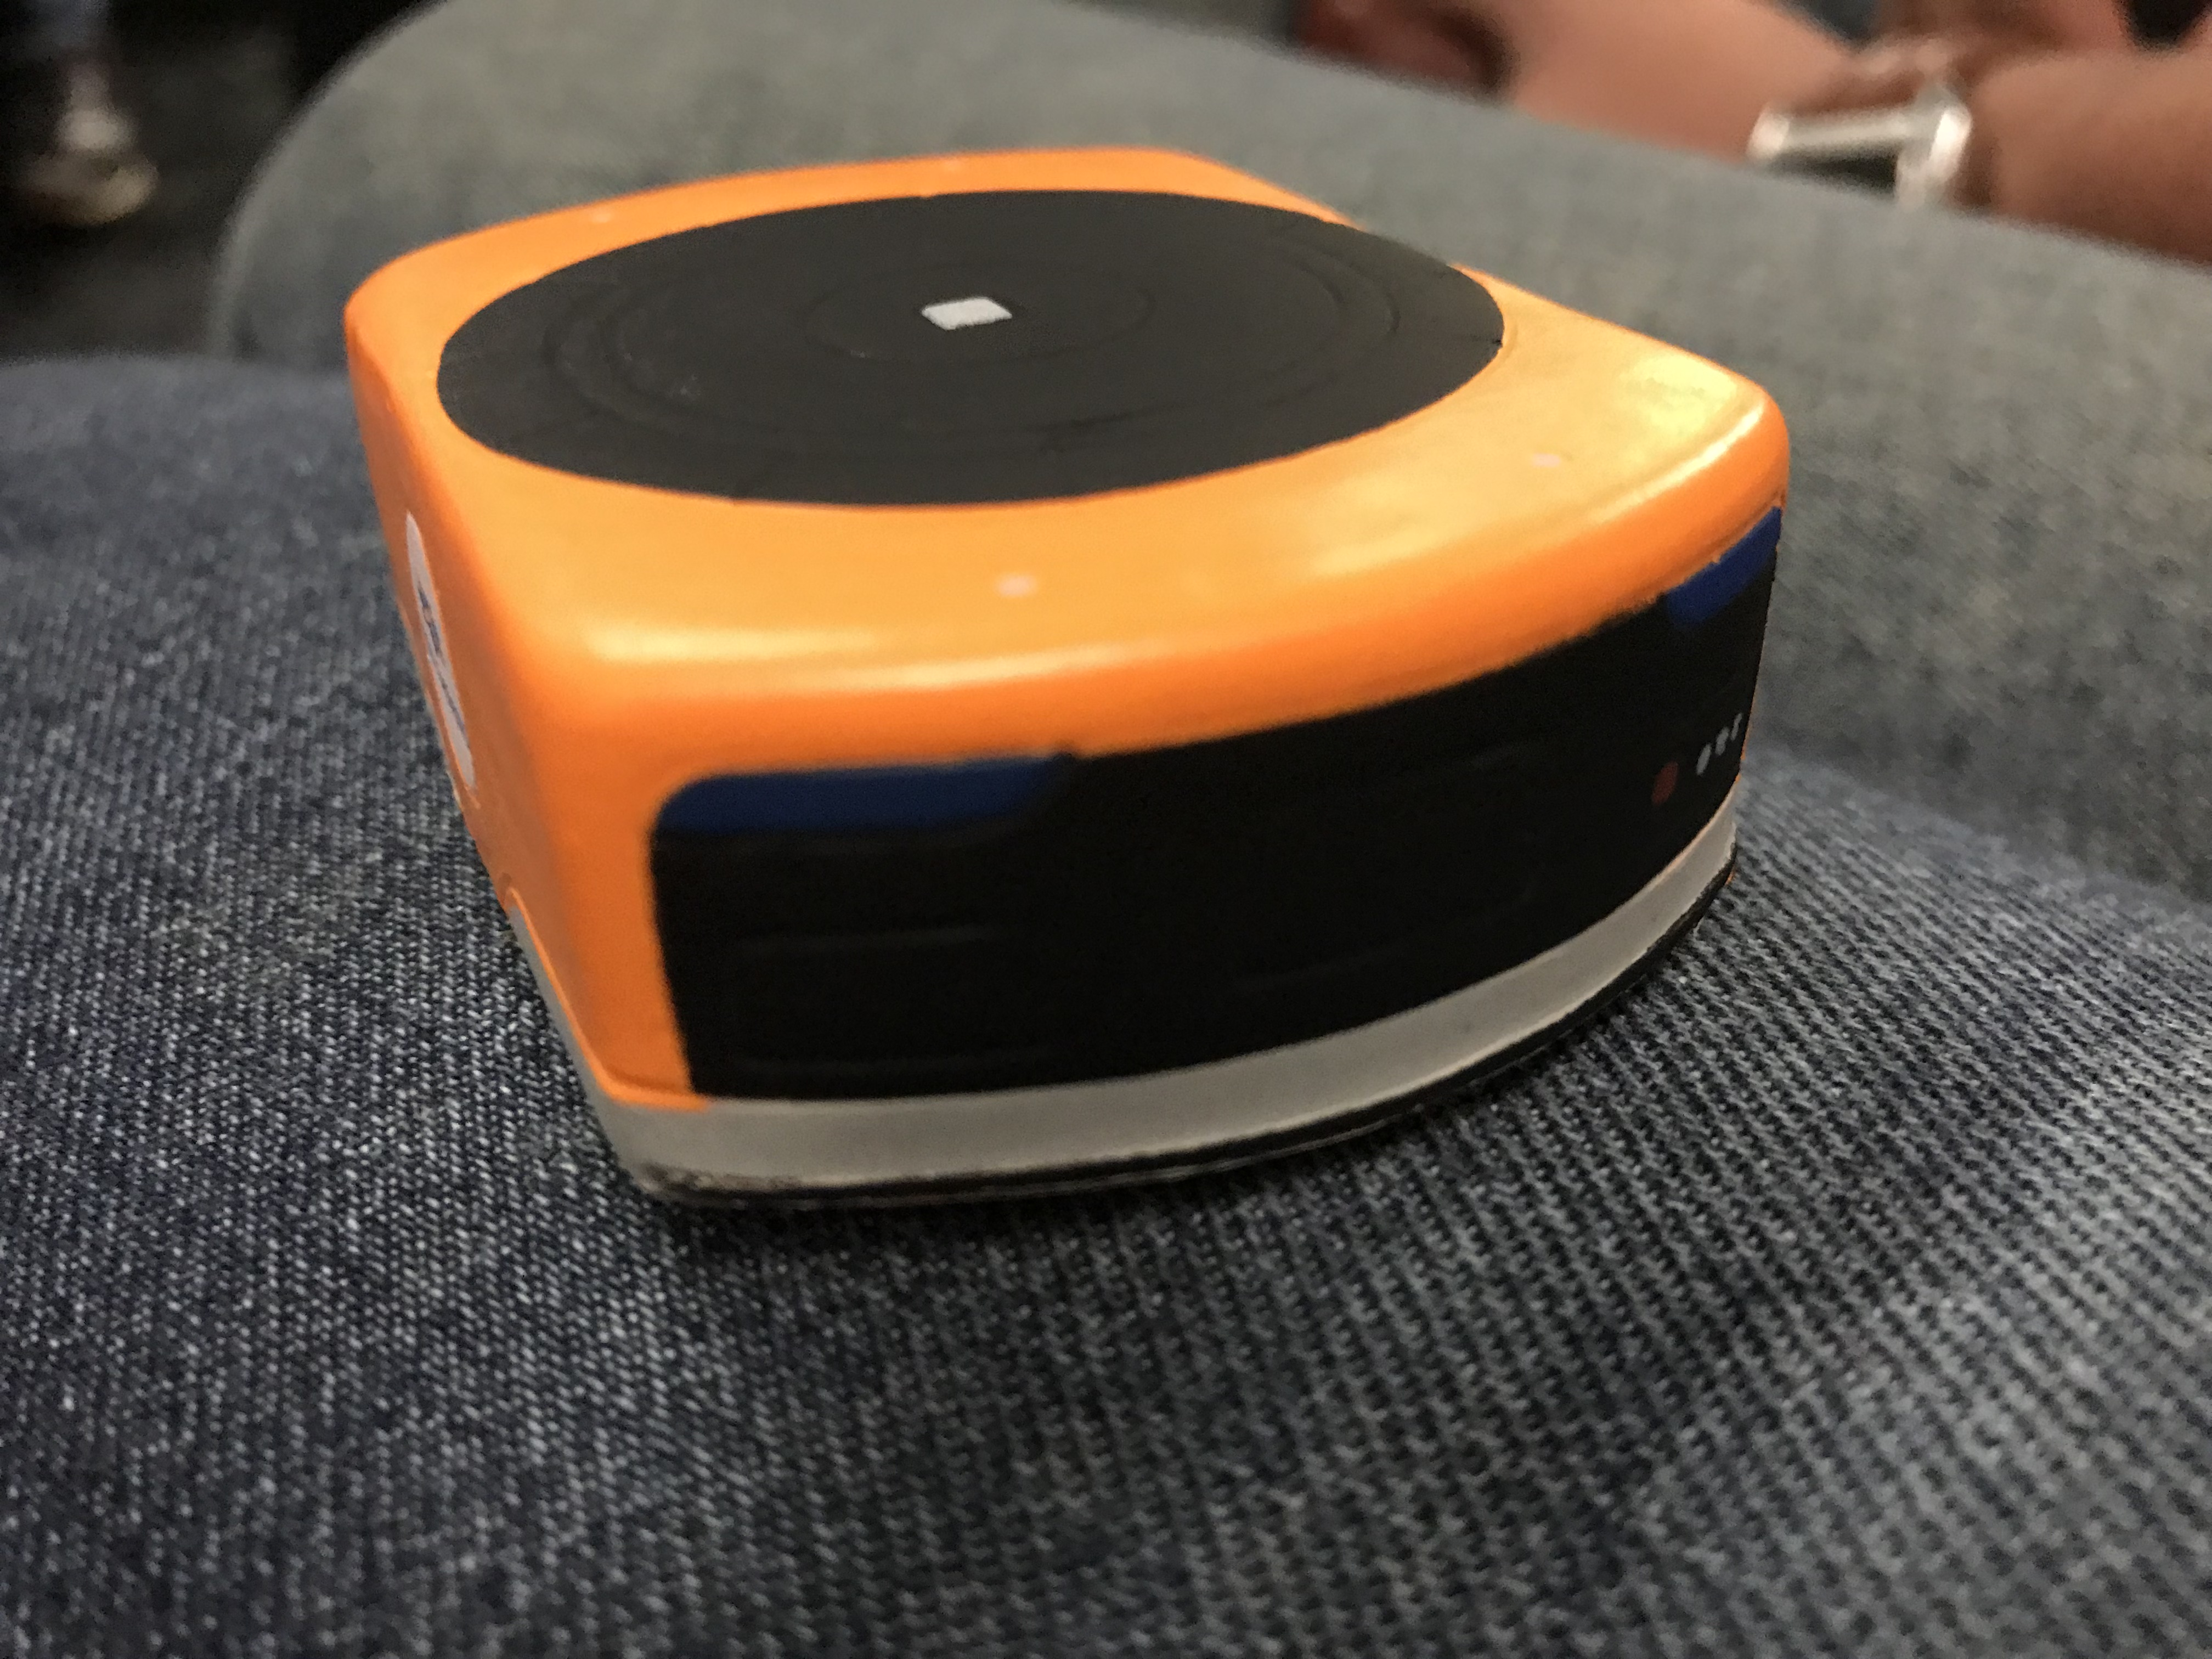amazon_bot: (320, 138, 1848, 1281)
